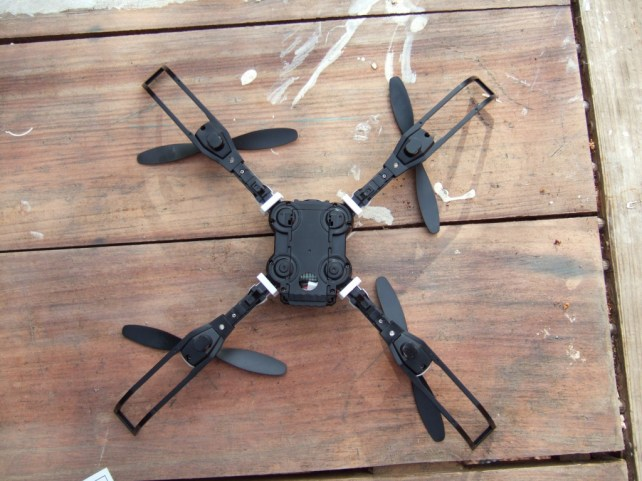drone: (110, 61, 501, 454)
